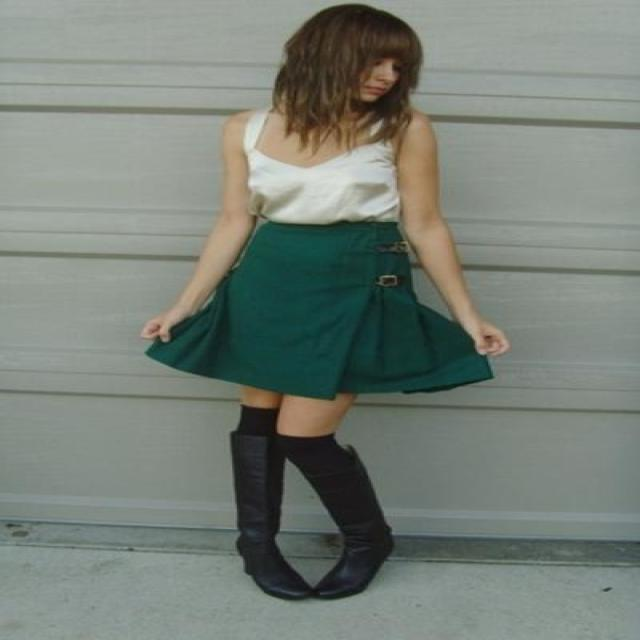shirt: (238, 104, 412, 233)
shoe: (230, 430, 392, 600)
skirt: (145, 218, 492, 399)
